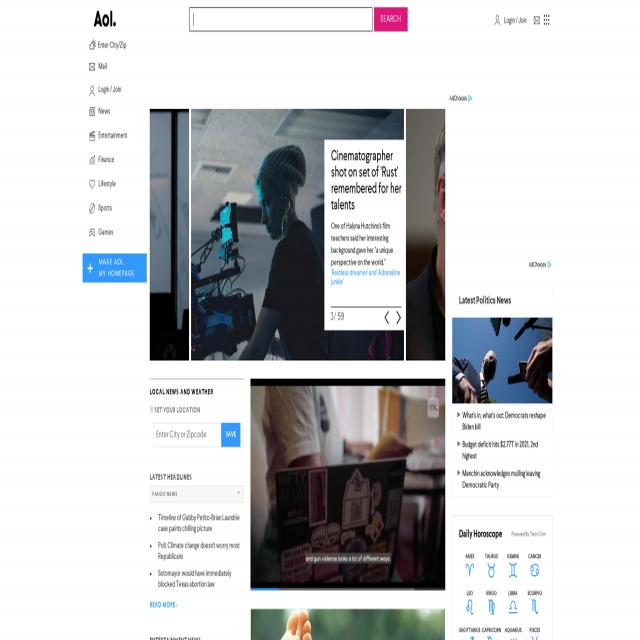button: (251, 377, 445, 591), (452, 318, 552, 403), (250, 609, 446, 640), (82, 253, 147, 282), (492, 11, 530, 33), (374, 7, 407, 32), (96, 36, 126, 54), (88, 11, 121, 27), (222, 423, 240, 447), (459, 562, 481, 578), (480, 562, 502, 578), (502, 562, 524, 578), (524, 562, 546, 578), (459, 599, 481, 615), (480, 599, 502, 615), (502, 599, 524, 615), (524, 599, 546, 615), (529, 11, 541, 31), (542, 10, 553, 31), (89, 38, 96, 50), (89, 62, 95, 72), (89, 86, 95, 96), (89, 106, 95, 116), (89, 131, 95, 141), (89, 155, 95, 165), (89, 179, 95, 189), (89, 204, 95, 214), (89, 228, 95, 238), (384, 311, 388, 324), (397, 311, 401, 324)
field: (189, 7, 372, 32), (153, 423, 221, 447), (150, 486, 243, 502)
